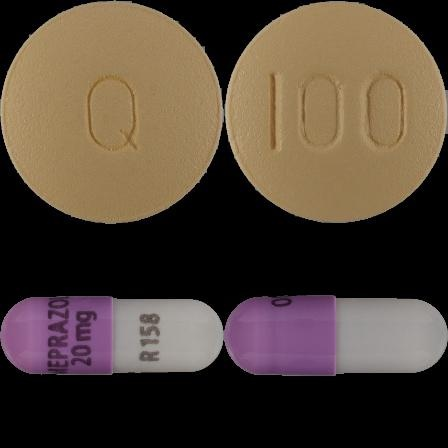64725-0147: (0, 0, 224, 224)
